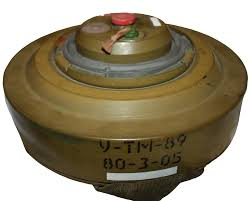car: (1, 7, 251, 201)
